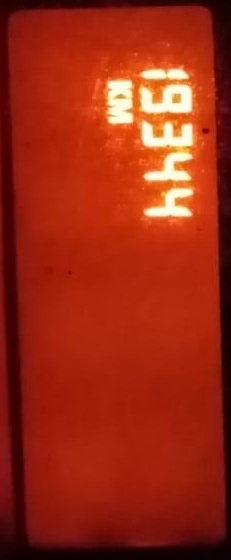1: (137, 64, 192, 83)
3: (136, 117, 193, 149)
4: (141, 184, 195, 220), (141, 151, 193, 184)
9: (137, 82, 193, 117)
X: (103, 99, 134, 124), (102, 79, 134, 100)
